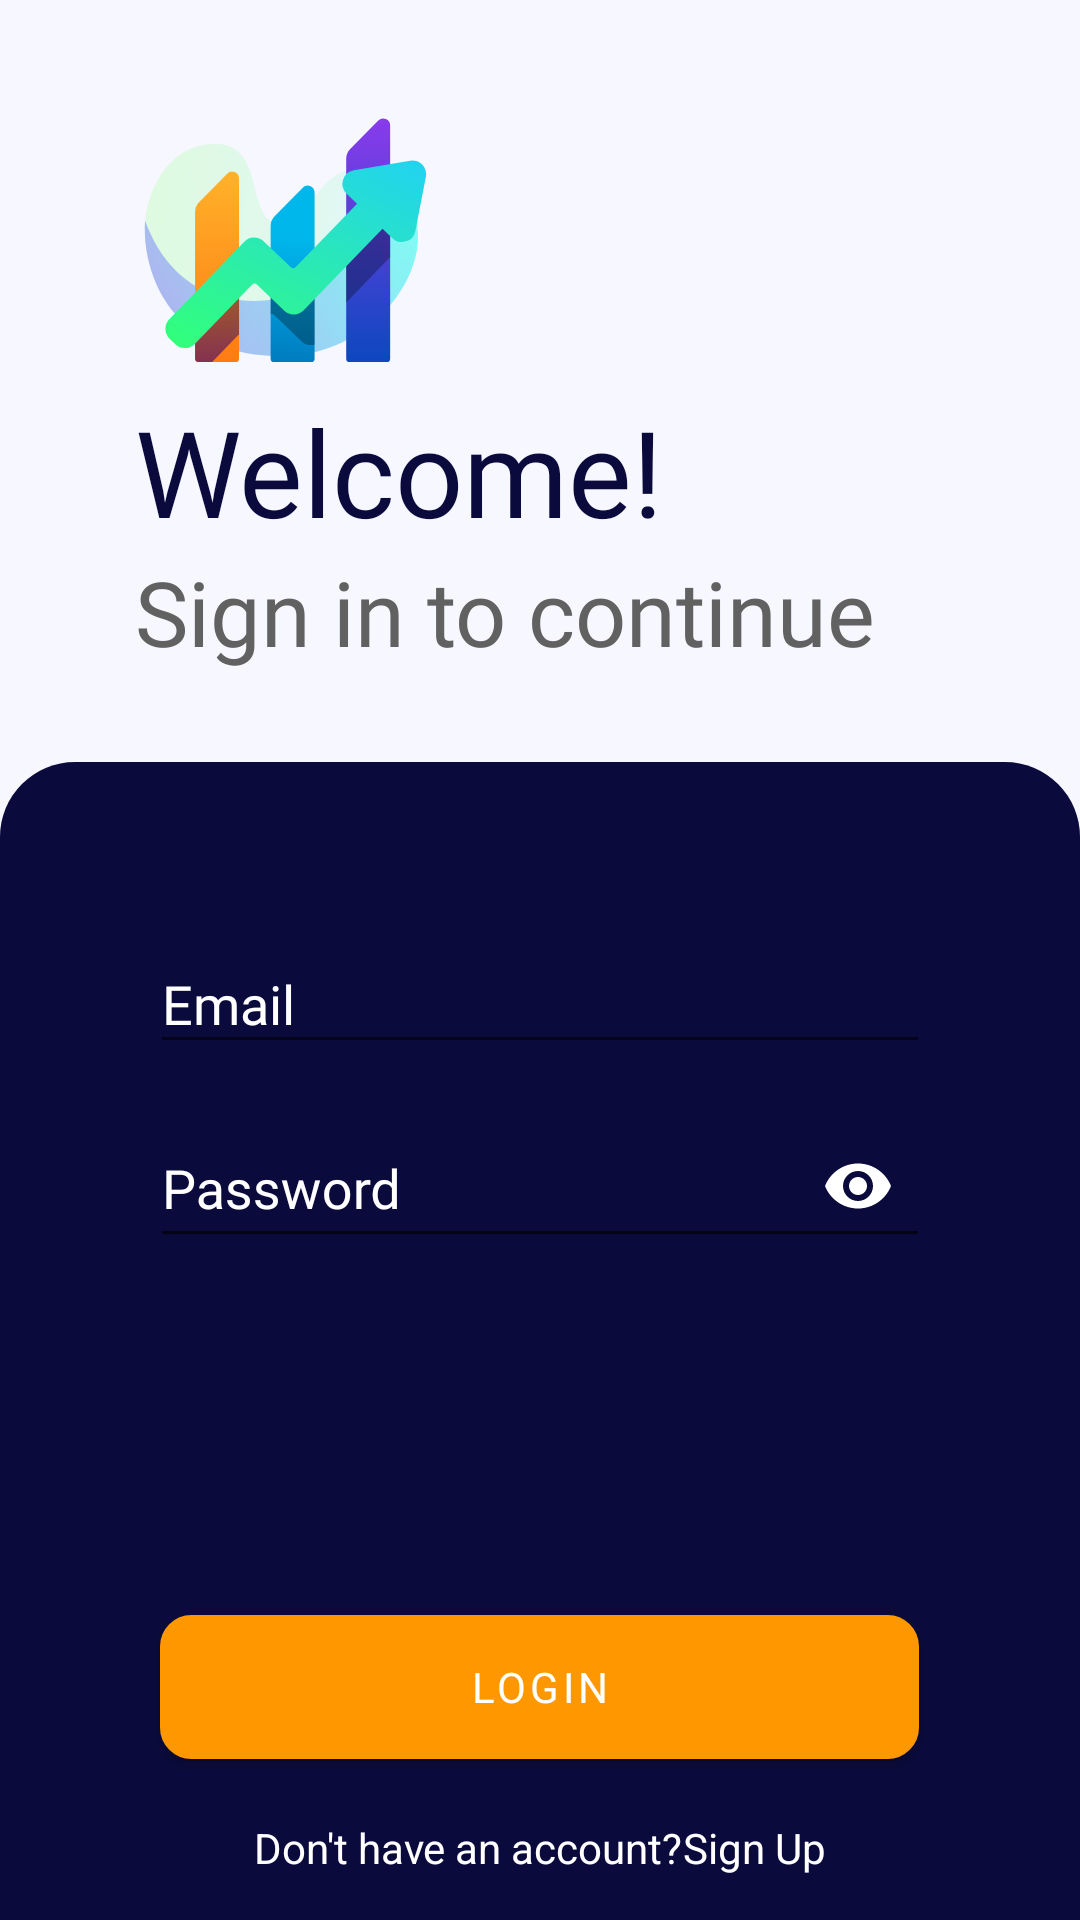

Where to tap for icons on this 1080w x 1920h app screen, as (x=x, y=y):
chart: (x=286, y=240)
